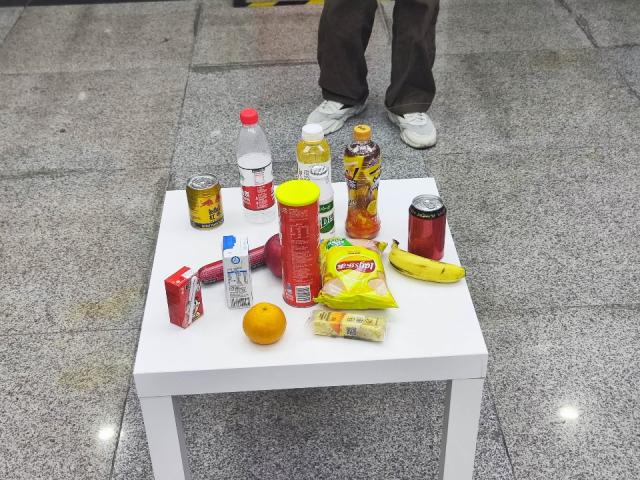Canned_drinks: (403, 190, 448, 260), (185, 172, 227, 232)
bottle: (236, 108, 280, 225), (340, 124, 385, 237)
cylinder: (278, 184, 323, 311)
drink_box: (157, 268, 213, 330), (221, 234, 255, 305)
